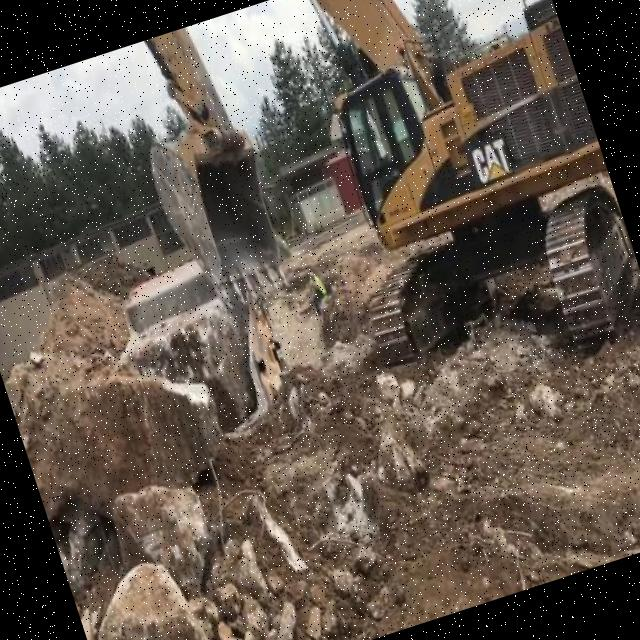Excavator: (109, 0, 640, 461)
